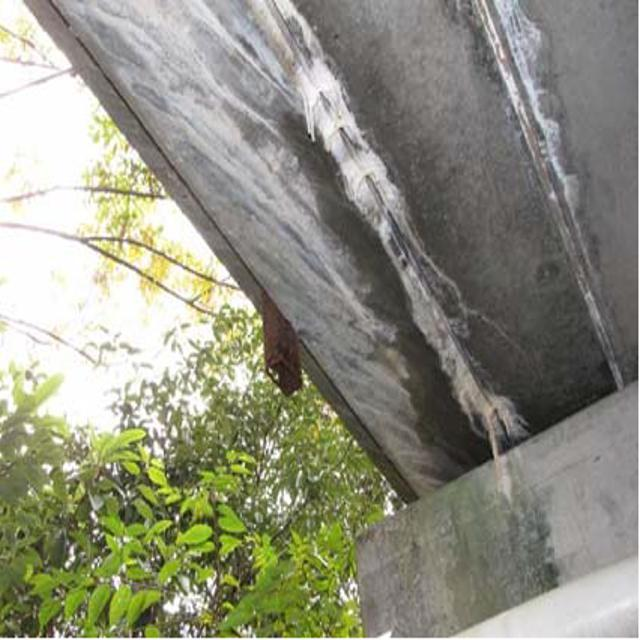freelime: (93, 10, 507, 460)
